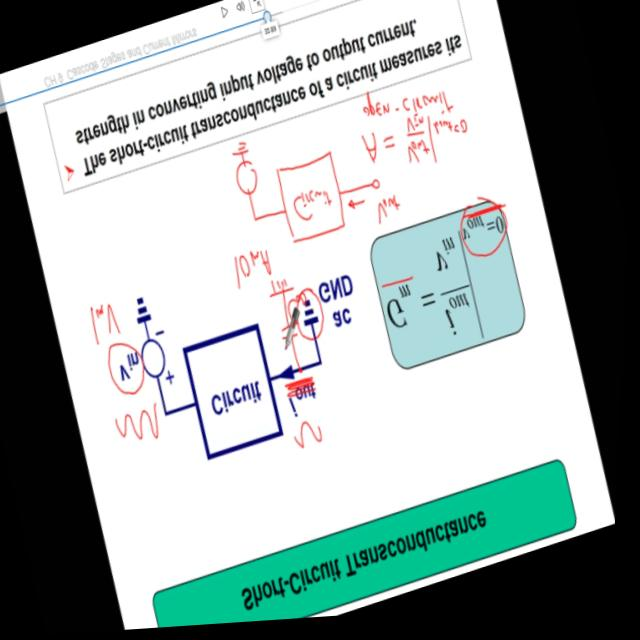panseo: (223, 64, 498, 290), (220, 230, 333, 377), (72, 284, 138, 357)
